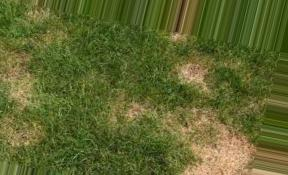patch: (192, 135, 234, 172), (4, 116, 38, 144), (8, 81, 49, 100), (181, 61, 205, 89), (163, 106, 187, 132), (11, 54, 32, 77), (123, 102, 149, 117), (193, 105, 209, 129), (237, 139, 253, 159), (33, 14, 58, 26), (215, 120, 231, 133), (170, 36, 185, 44), (183, 162, 191, 173), (16, 104, 26, 110)
